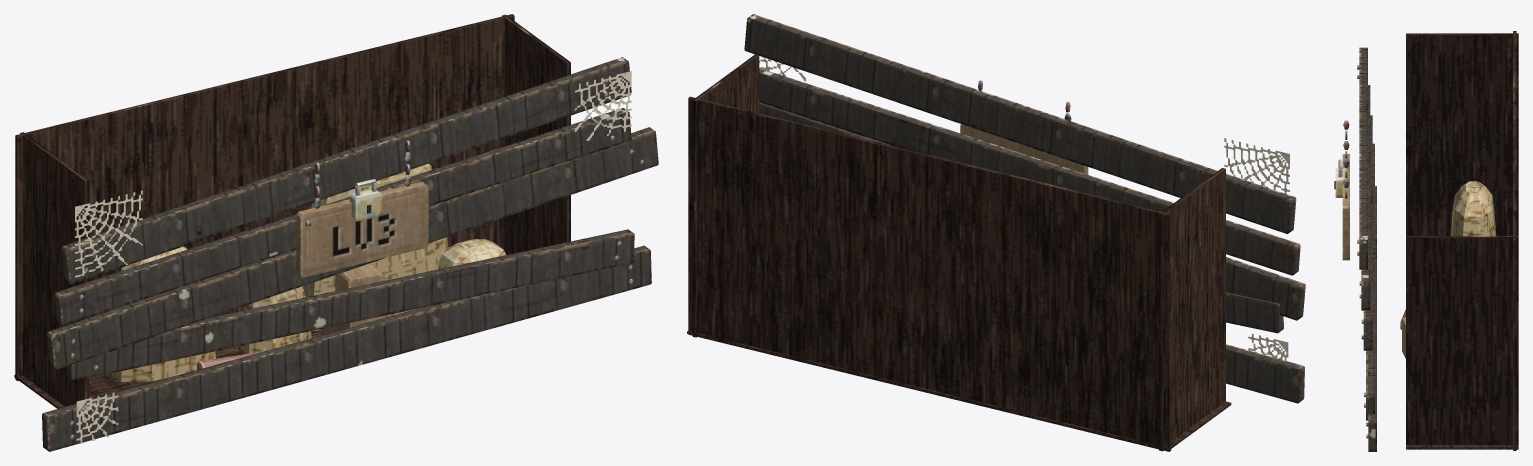
Rendered from boards_f2.glb.
The picture shows the model from 3 angles, left to right: view 1: azimuth 30°, elevation 25°; view 2: azimuth 150°, elevation 25°; view 3: azimuth 270°, elevation 25°; orthographic projection. The views are drawn at different scales.
Parts seen in each view (by area): view 1: tile_grey (×5), solid (×2), tile_wood (×2), card; view 2: solid, tile_grey (×5), card, tile_wood; view 3: solid (×2), tile_grey (×5), tile_wood.
Part boxes in pixels (x1=…): tile_grey (×5): x1=42, y1=57, x2=658, y2=451; solid (×2): x1=14, y1=14, x2=570, y2=408; tile_wood (×2): x1=296, y1=181, x2=428, y2=335; card: x1=75, y1=71, x2=631, y2=443; solid: x1=687, y1=54, x2=1231, y2=451; tile_grey (×5): x1=744, y1=14, x2=1305, y2=403; card: x1=759, y1=57, x2=1289, y2=360; tile_wood: x1=960, y1=124, x2=1088, y2=174; solid (×2): x1=1334, y1=31, x2=1518, y2=450; tile_grey (×5): x1=1359, y1=47, x2=1376, y2=451; tile_wood: x1=1342, y1=154, x2=1349, y2=260.
Bounding box in the file's own units: 162 × 65.61 × 49.11.
2 materials, 2 textured.
